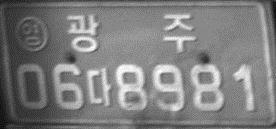0: (16, 62, 48, 110)
1: (228, 63, 260, 112)
6: (51, 63, 84, 111)
8: (189, 63, 225, 112), (115, 63, 148, 111)
9: (151, 63, 185, 112)
광주_D: (65, 14, 197, 52)
다: (84, 66, 112, 106)
영: (14, 16, 49, 52)
